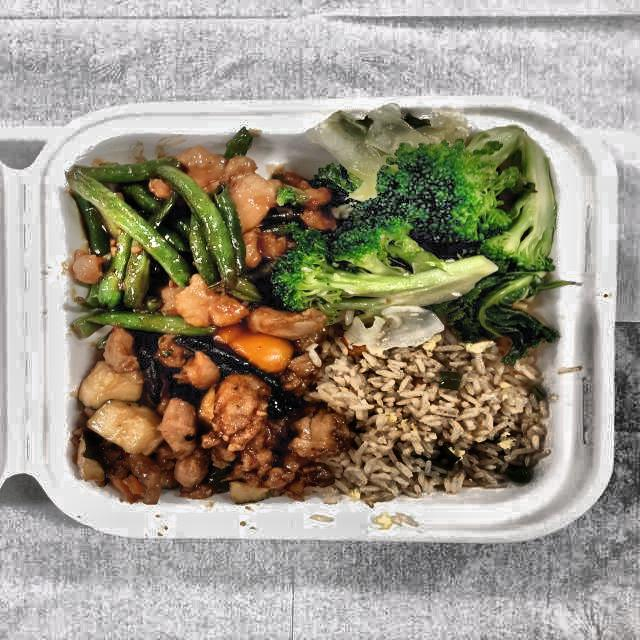Food: (304, 111, 571, 346), (64, 331, 354, 514), (66, 139, 284, 347), (314, 327, 558, 505)
